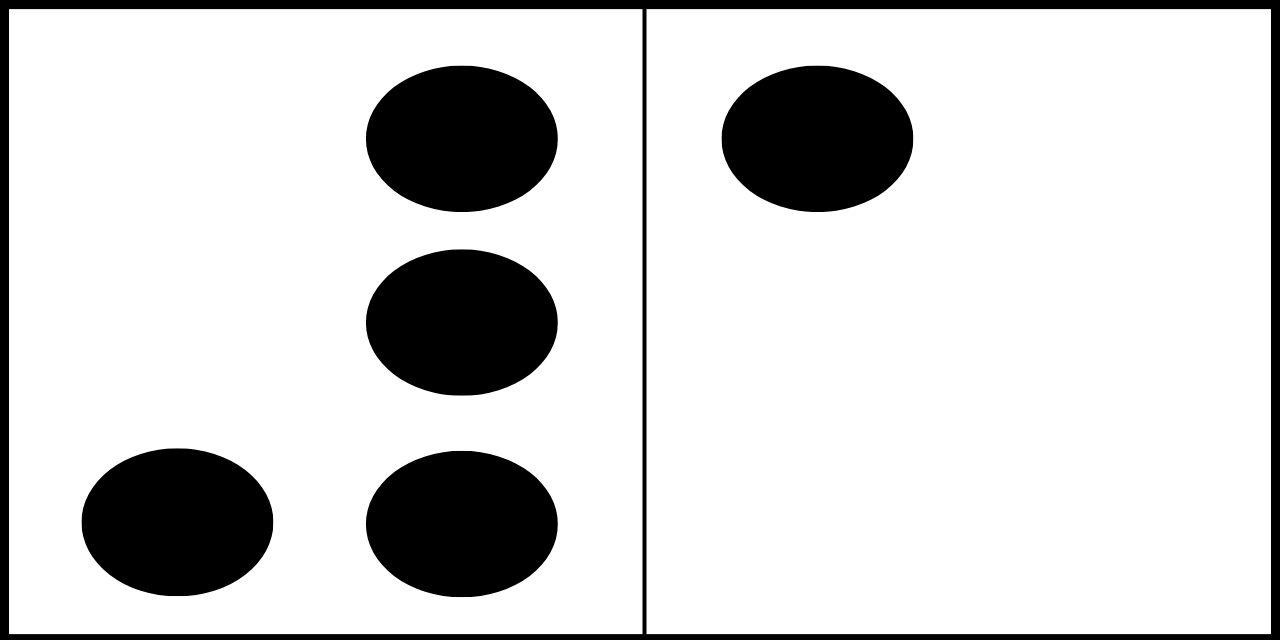digit_1: (720, 65, 1205, 595)
number_sign: (80, 64, 558, 597)
